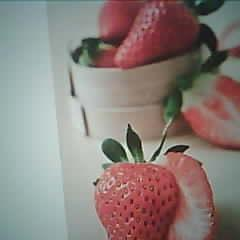straw-ripe: (94, 161, 178, 240), (115, 0, 197, 69)
